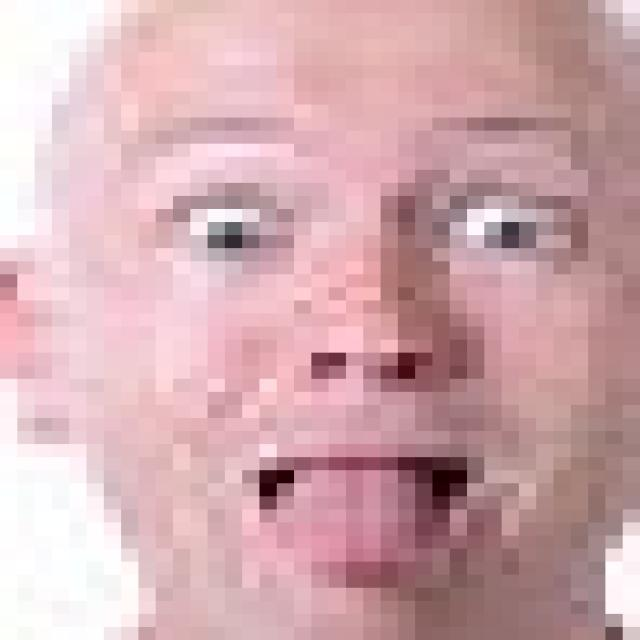Anxiety: (50, 0, 623, 627)
